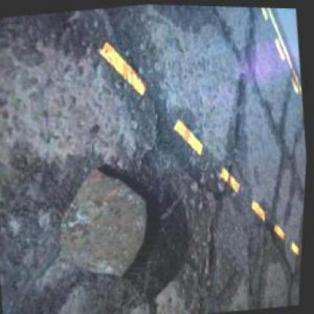Hueco: (47, 154, 174, 289)
